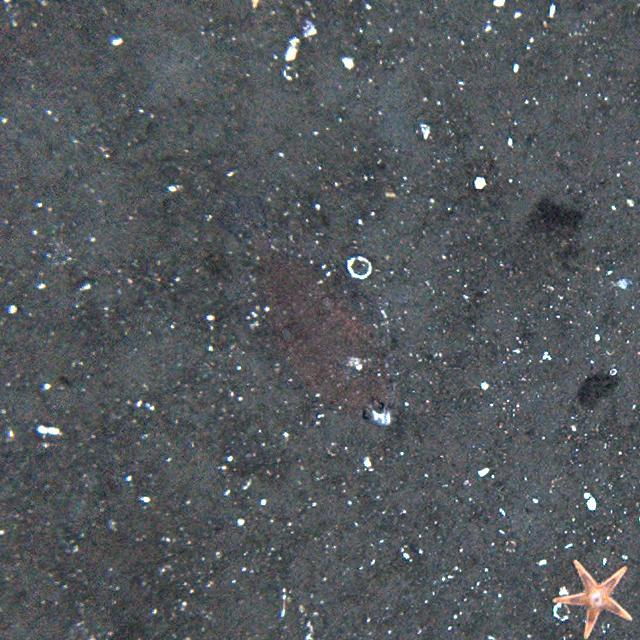flatfish: (212, 185, 397, 428)
